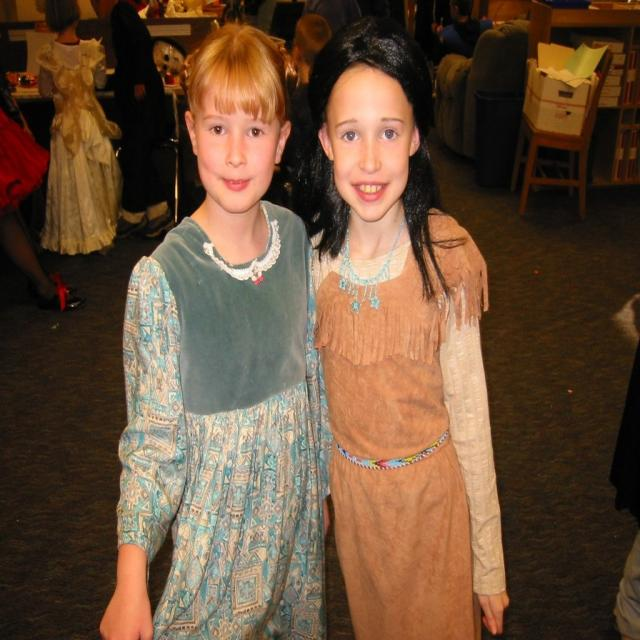chair: (512, 40, 614, 222)
desk: (526, 0, 640, 188)
person: (112, 19, 329, 640), (303, 19, 513, 640), (35, 0, 124, 259), (0, 80, 83, 311), (98, 0, 175, 238), (606, 295, 640, 639), (432, 0, 487, 62)
